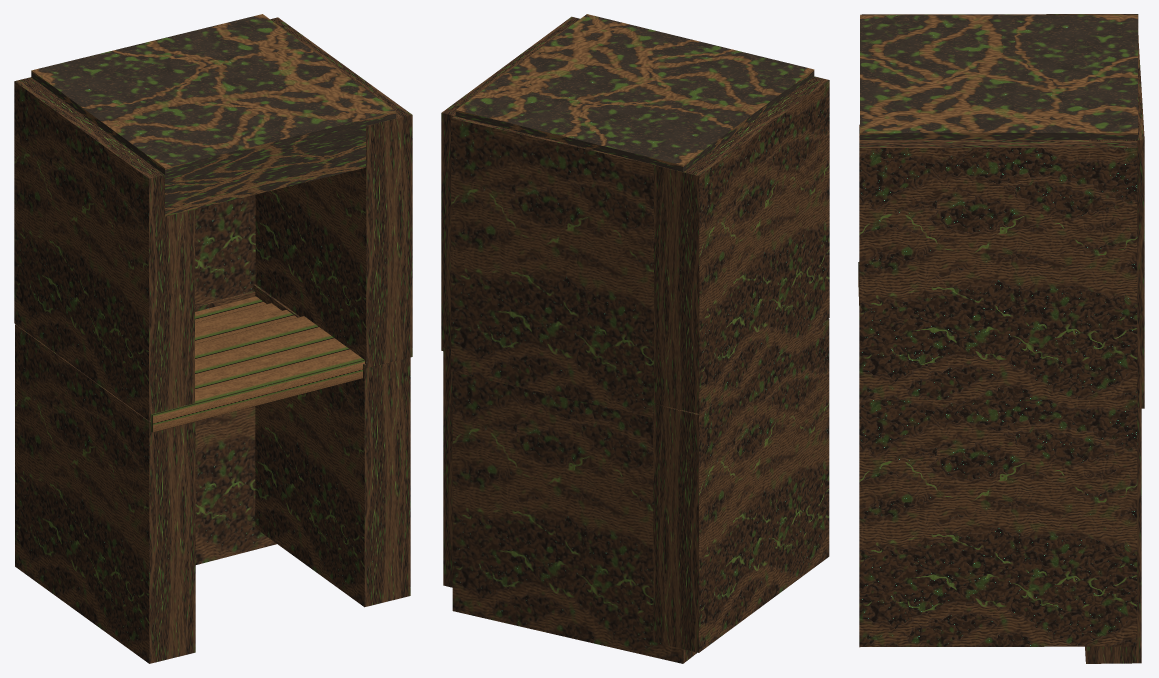
File: Stairs.gltf
3 renders of one model, left to right at view 1: azimuth 30°, elevation 25°; view 2: azimuth 150°, elevation 25°; view 3: azimuth 270°, elevation 25°, orthographic. The views are drawn at different scales.
Parts seen in each view (by area): view 1: 立方体.001, 立方体.005, 立方体, 立方体.004, 立方体.002, pedestal, 立方体.007, 立方体.003; view 2: 立方体.003, 立方体.007, 立方体.001, 立方体.005, 立方体, 立方体.002, 立方体.004; view 3: 立方体.002, 立方体.004, 立方体, 立方体.003, 立方体.007, 立方体.001.
Part boxes in pixels (x1,y1,x2,y2): 立方体.001: (14,77,194,420); 立方体.005: (15,324,195,663); 立方体: (31,14,396,216); 立方体.004: (253,284,410,607); 立方体.002: (255,17,412,368); pedestal: (150,296,364,432); 立方体.007: (195,291,276,564); 立方体.003: (195,194,255,305); 立方体.003: (451,115,681,417); 立方体.007: (452,372,696,663); 立方体.001: (654,76,829,413); 立方体.005: (653,319,829,652); 立方体: (455,14,814,171); 立方体.002: (441,16,579,350); 立方体.004: (443,347,452,587); 立方体.002: (859,124,1137,399); 立方体.004: (859,399,1137,647); 立方体: (860,15,1137,139); 立方体.003: (1089,32,1144,408); 立方体.007: (1085,408,1141,663); 立方体.001: (860,14,1138,37).
Bounding box in the file's own units: 11.42 × 21.03 × 10.31.
8 materials, 8 textured.
